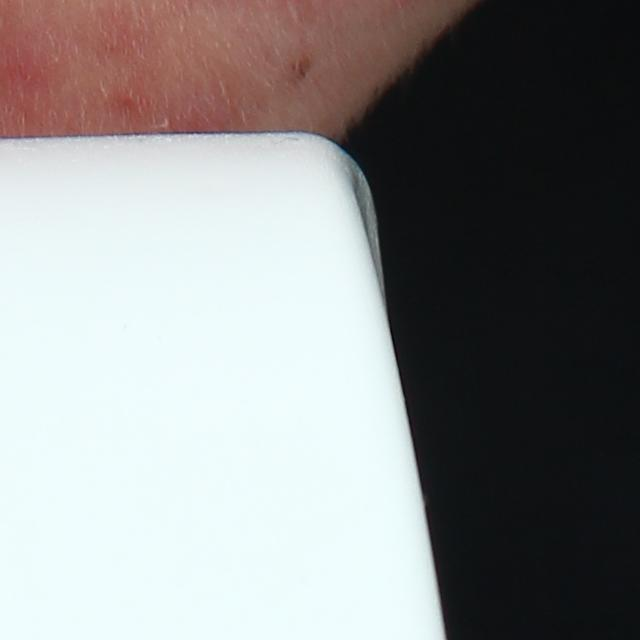nevus: (292, 58, 316, 80)
